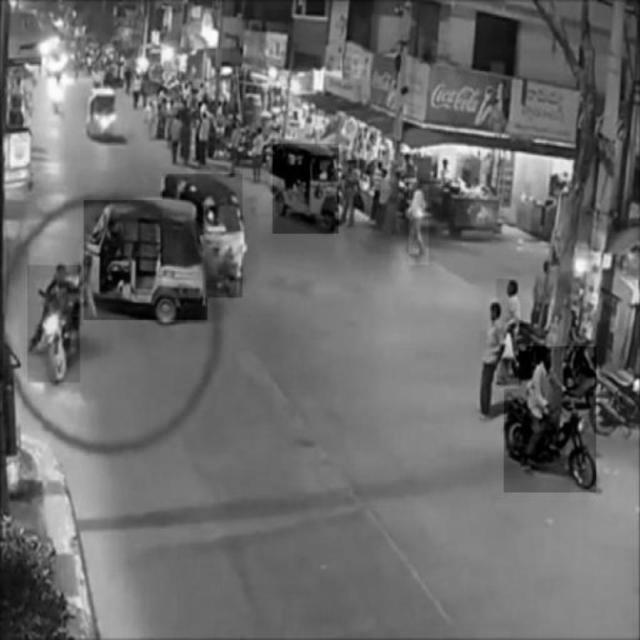person: (479, 299, 504, 420), (497, 279, 519, 389), (410, 184, 430, 265)
vehicle: (84, 201, 208, 321), (503, 347, 595, 493), (164, 174, 244, 298), (28, 265, 80, 383), (273, 144, 339, 234)
